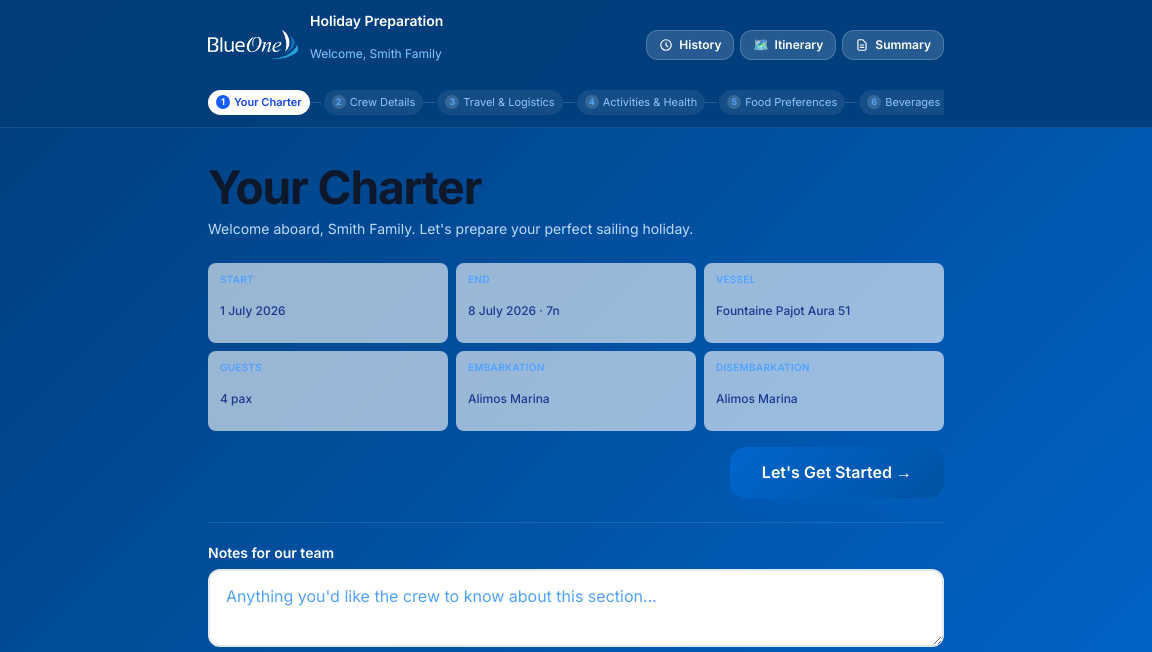
Test: ClientSpaceClient — Step 1: Crew Details › first crew card is expanded by default showing name fields
Check: the text "Holiday Preparation" is shown, box [310, 12, 443, 29]
Click the button "Let's Get Started →": (837, 473) [730, 447, 944, 498]
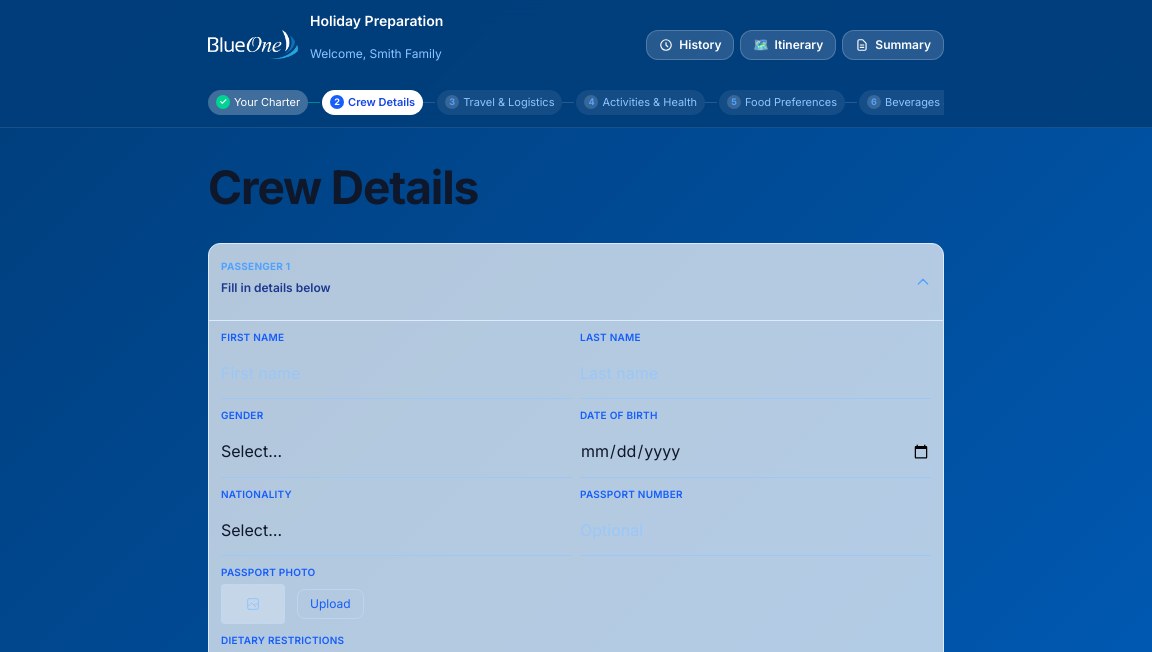
Check: the field with placeholder "First name" is shown, box [221, 349, 572, 399]
Check: the field with placeholder "Last name" is shown, box [580, 349, 931, 399]
